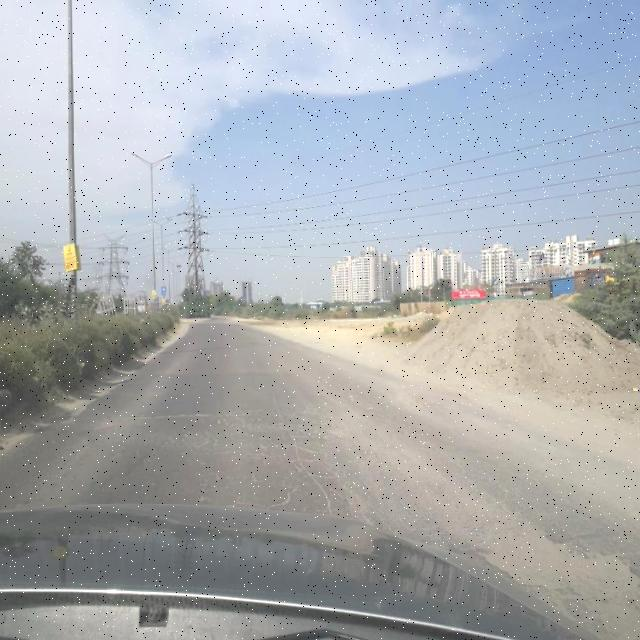D00: (267, 390, 333, 510)
D10: (122, 404, 230, 421)
D20: (86, 390, 345, 510)
D40: (411, 437, 640, 637), (318, 416, 368, 449), (78, 408, 119, 437)
